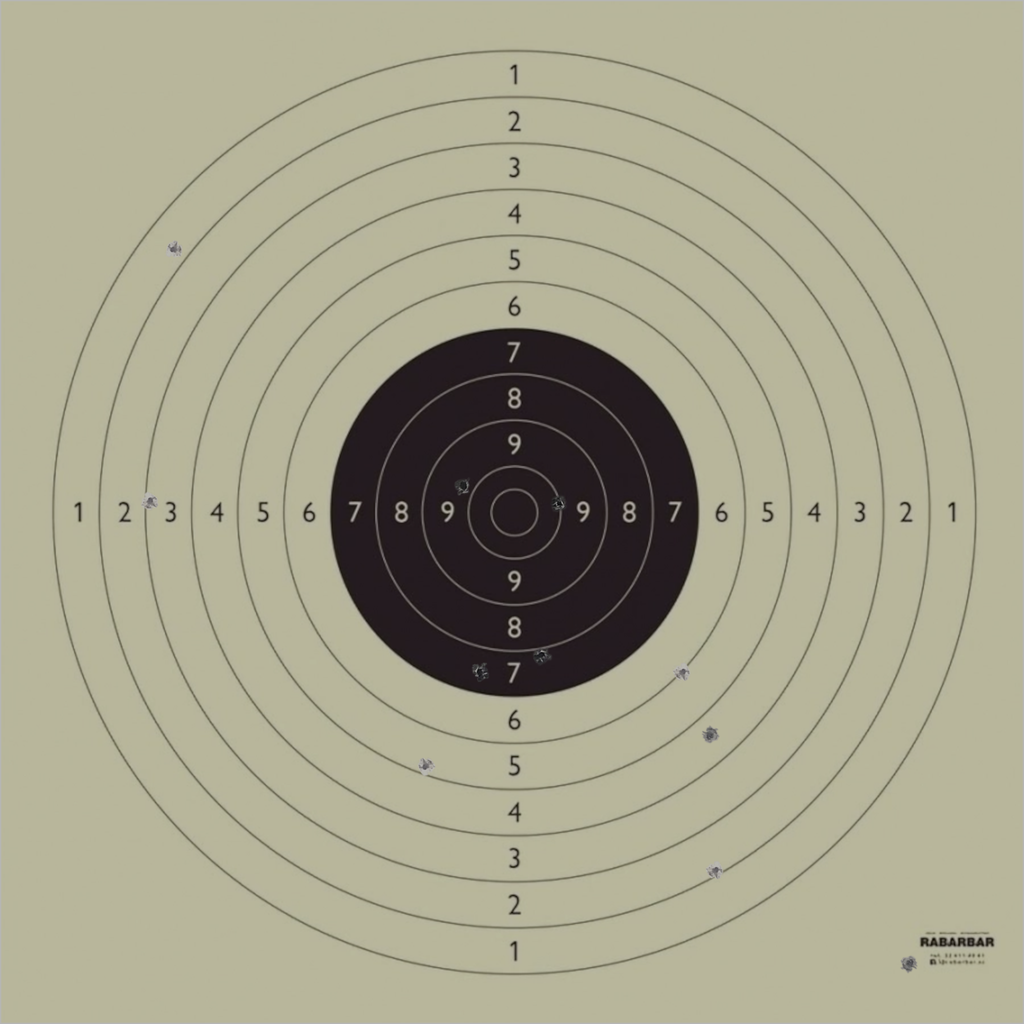0 punktow: (900, 954, 919, 973)
1 punkt: (165, 240, 183, 259)
10 punktow: (550, 495, 569, 513)
2 punkty: (706, 861, 725, 880)
3 punkty: (141, 492, 160, 510)
4 punkty: (701, 726, 719, 745)
5 punktow: (416, 757, 435, 775)
6 punktow: (674, 663, 692, 682)
7 punktow: (471, 663, 489, 682)
8 punktow: (533, 646, 551, 664)
9 punktow: (454, 477, 473, 495)
